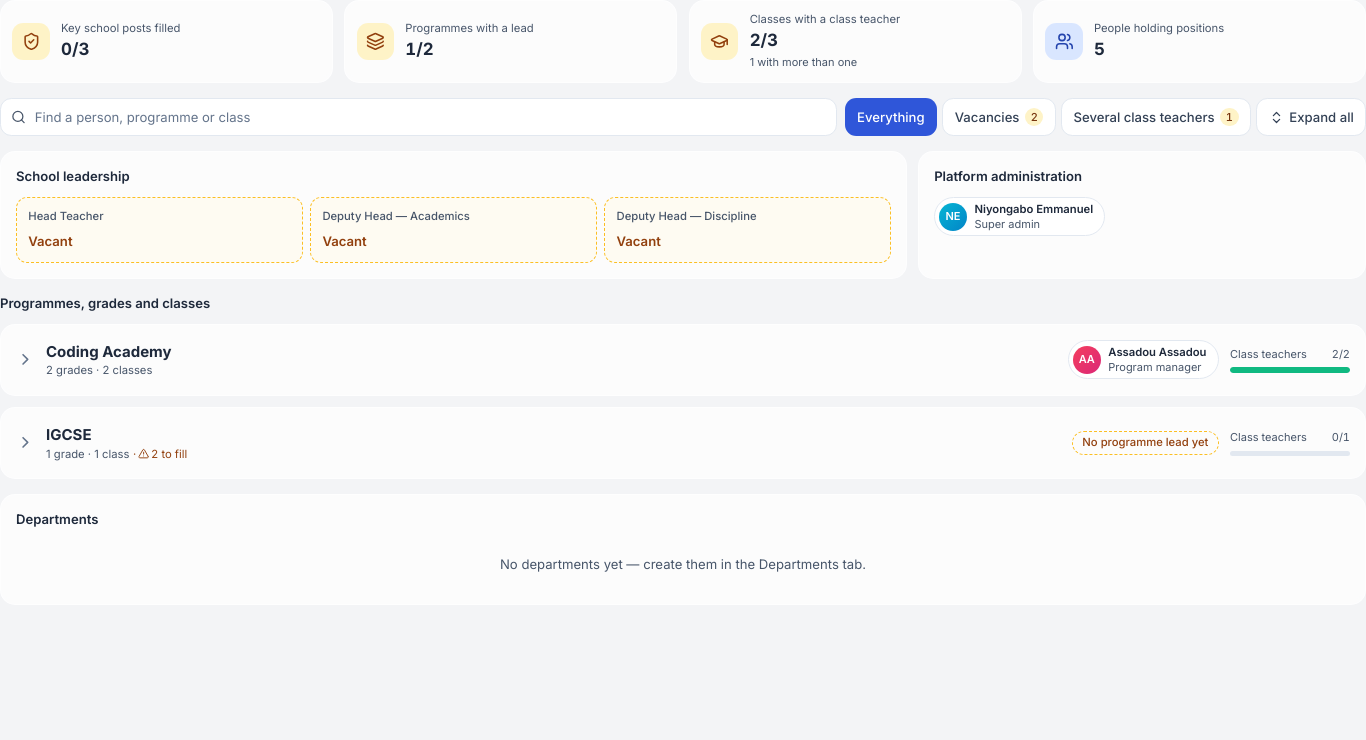
it: Structure tab › clicking a person filters to them
The image size is (1366, 740).
Click the button "Coding Academy 2 grades · 2 classes" at (109, 351), box [16,340,1057,380]
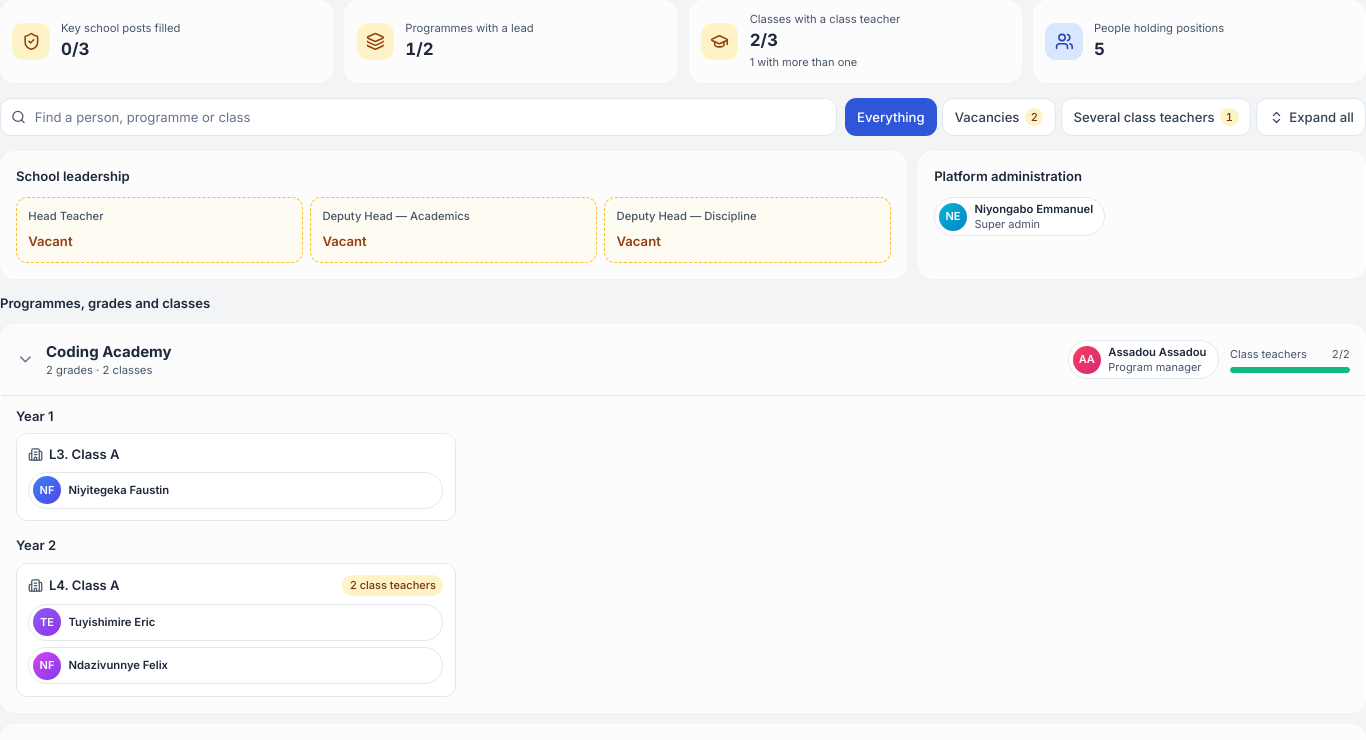
Click the button "NF Ndazivunnye Felix" at (118, 665), box [28,647,444,684]
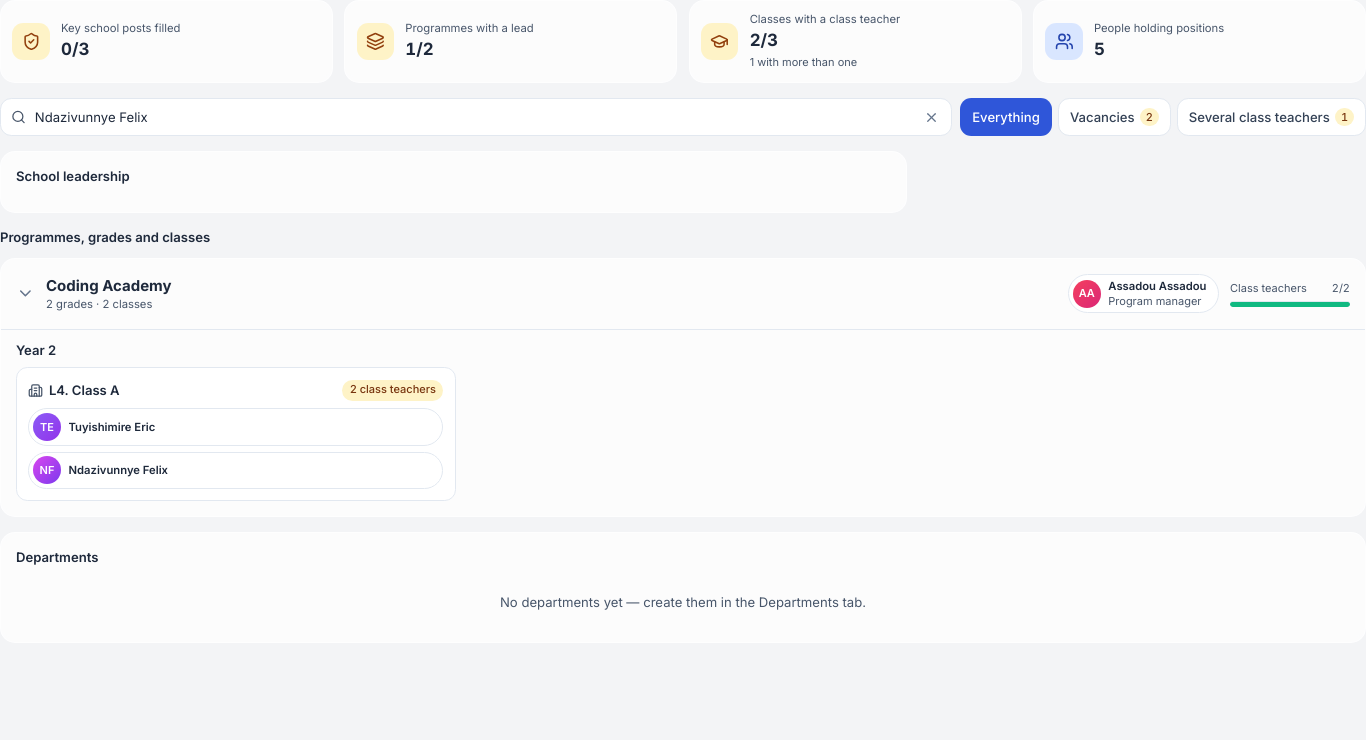
Now the search field named "Find a person, programme or class" holds "Ndazivunnye Felix", box [0,98,952,136]
Now the text "L3. Class A" is gone
